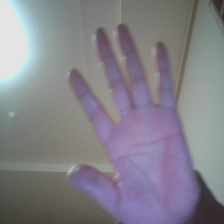hand: (67, 26, 208, 222)
